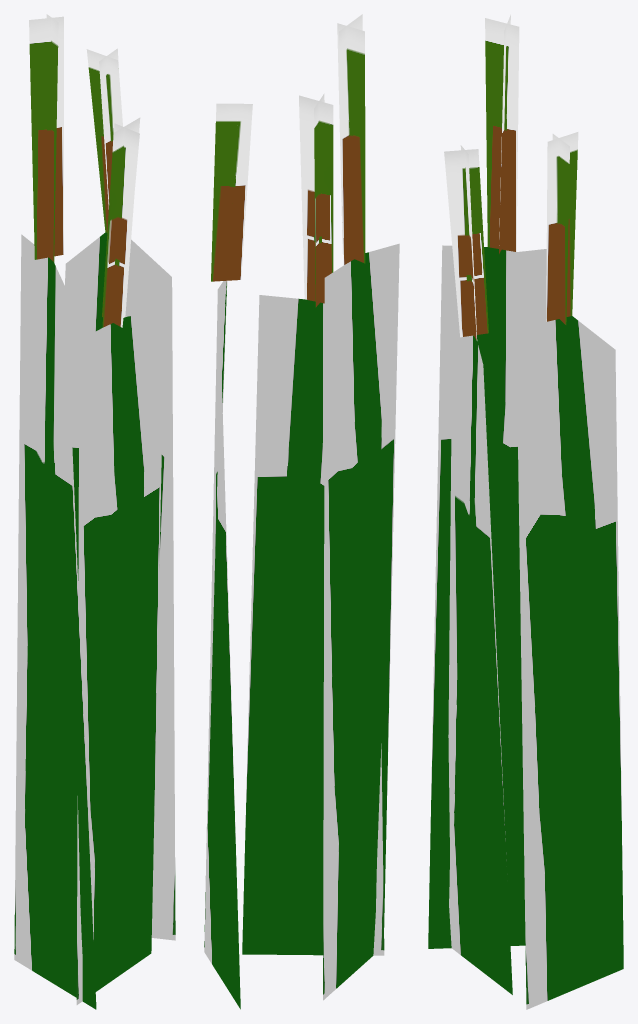
The model's file is PT_Cattail_03.fbx.
The picture shows the model from 3 angles, left to right: view 1: azimuth 30°, elevation 25°; view 2: azimuth 150°, elevation 25°; view 3: azimuth 270°, elevation 25°; orthographic projection. The views are drawn at different scales.
Visible parts, largest first — view 1: PT_Cattail_03_LOD0; view 2: PT_Cattail_03_LOD0; view 3: PT_Cattail_03_LOD0.
Part boxes in pixels (bbox=[...]): PT_Cattail_03_LOD0: bbox=[14, 14, 175, 1009]; PT_Cattail_03_LOD0: bbox=[204, 14, 399, 1009]; PT_Cattail_03_LOD0: bbox=[428, 14, 623, 1009].
Size of what is drawn, in the model's own units: 44.33 by 265 by 50.67.
